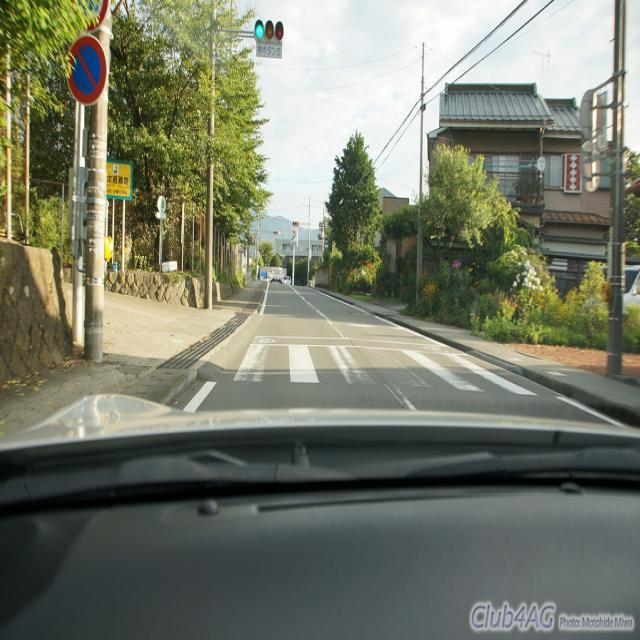obstructed_road_sign: (67, 37, 107, 105)
traffic light: (253, 19, 285, 43)
